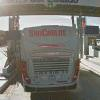Bus: (11, 22, 86, 94)
